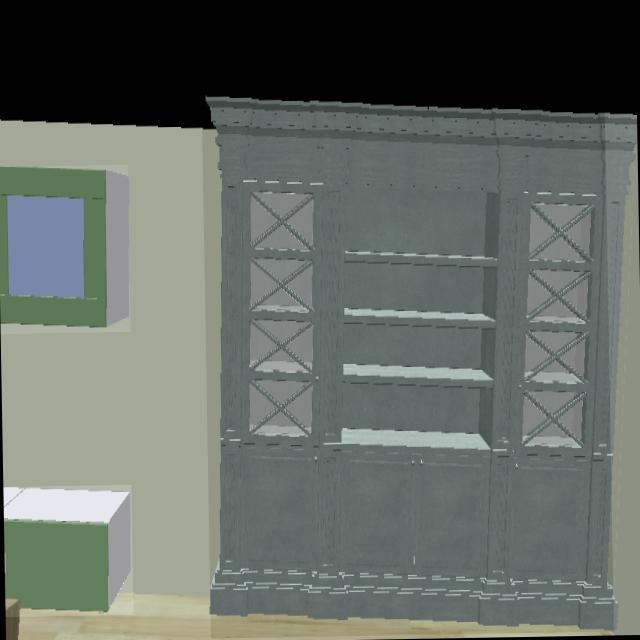cabinet: (209, 98, 613, 631), (0, 167, 130, 331), (5, 487, 132, 614)
